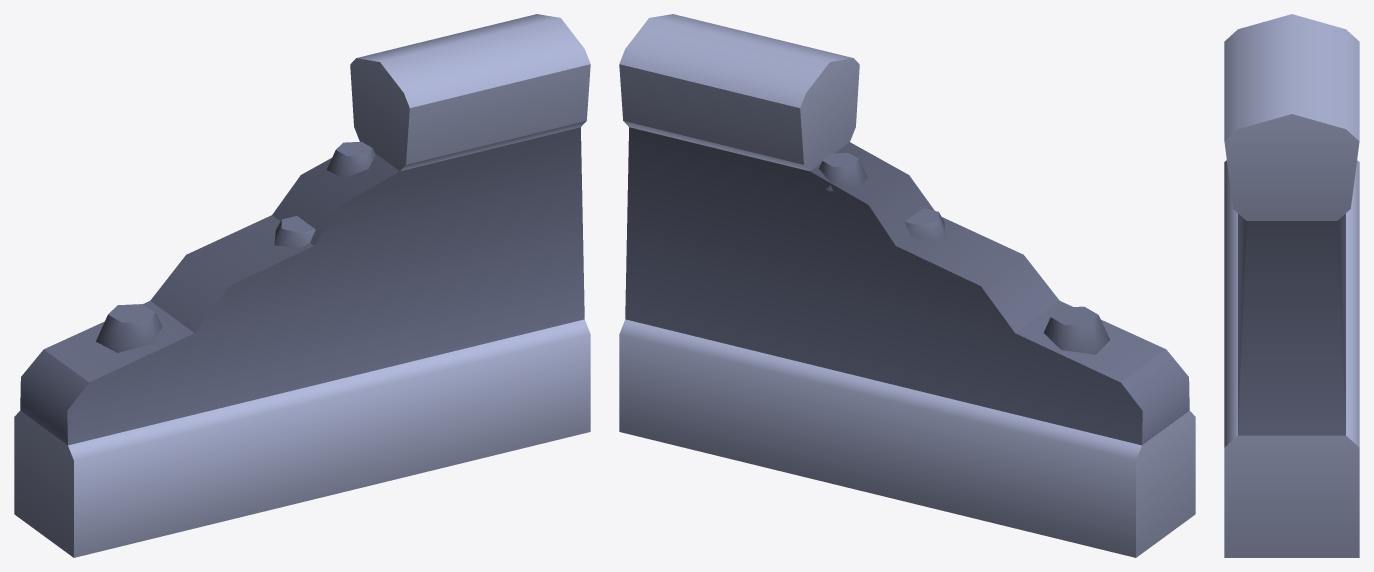
Rendered from stone-wall-damaged.glb.
The picture shows the model from 3 angles, left to right: view 1: azimuth 30°, elevation 25°; view 2: azimuth 150°, elevation 25°; view 3: azimuth 270°, elevation 25°; orthographic projection. The views are drawn at different scales.
Parts seen in each view (by area): view 1: stone-wall-damaged; view 2: stone-wall-damaged; view 3: stone-wall-damaged.
Boxes of the visible parts, x1,y1,x2,y2 form: stone-wall-damaged: (14,14,590,557); stone-wall-damaged: (619,14,1195,557); stone-wall-damaged: (1224,14,1359,557).
Bounding box in the file's own units: 20 × 14.5 × 4.
1 material, 1 textured.
